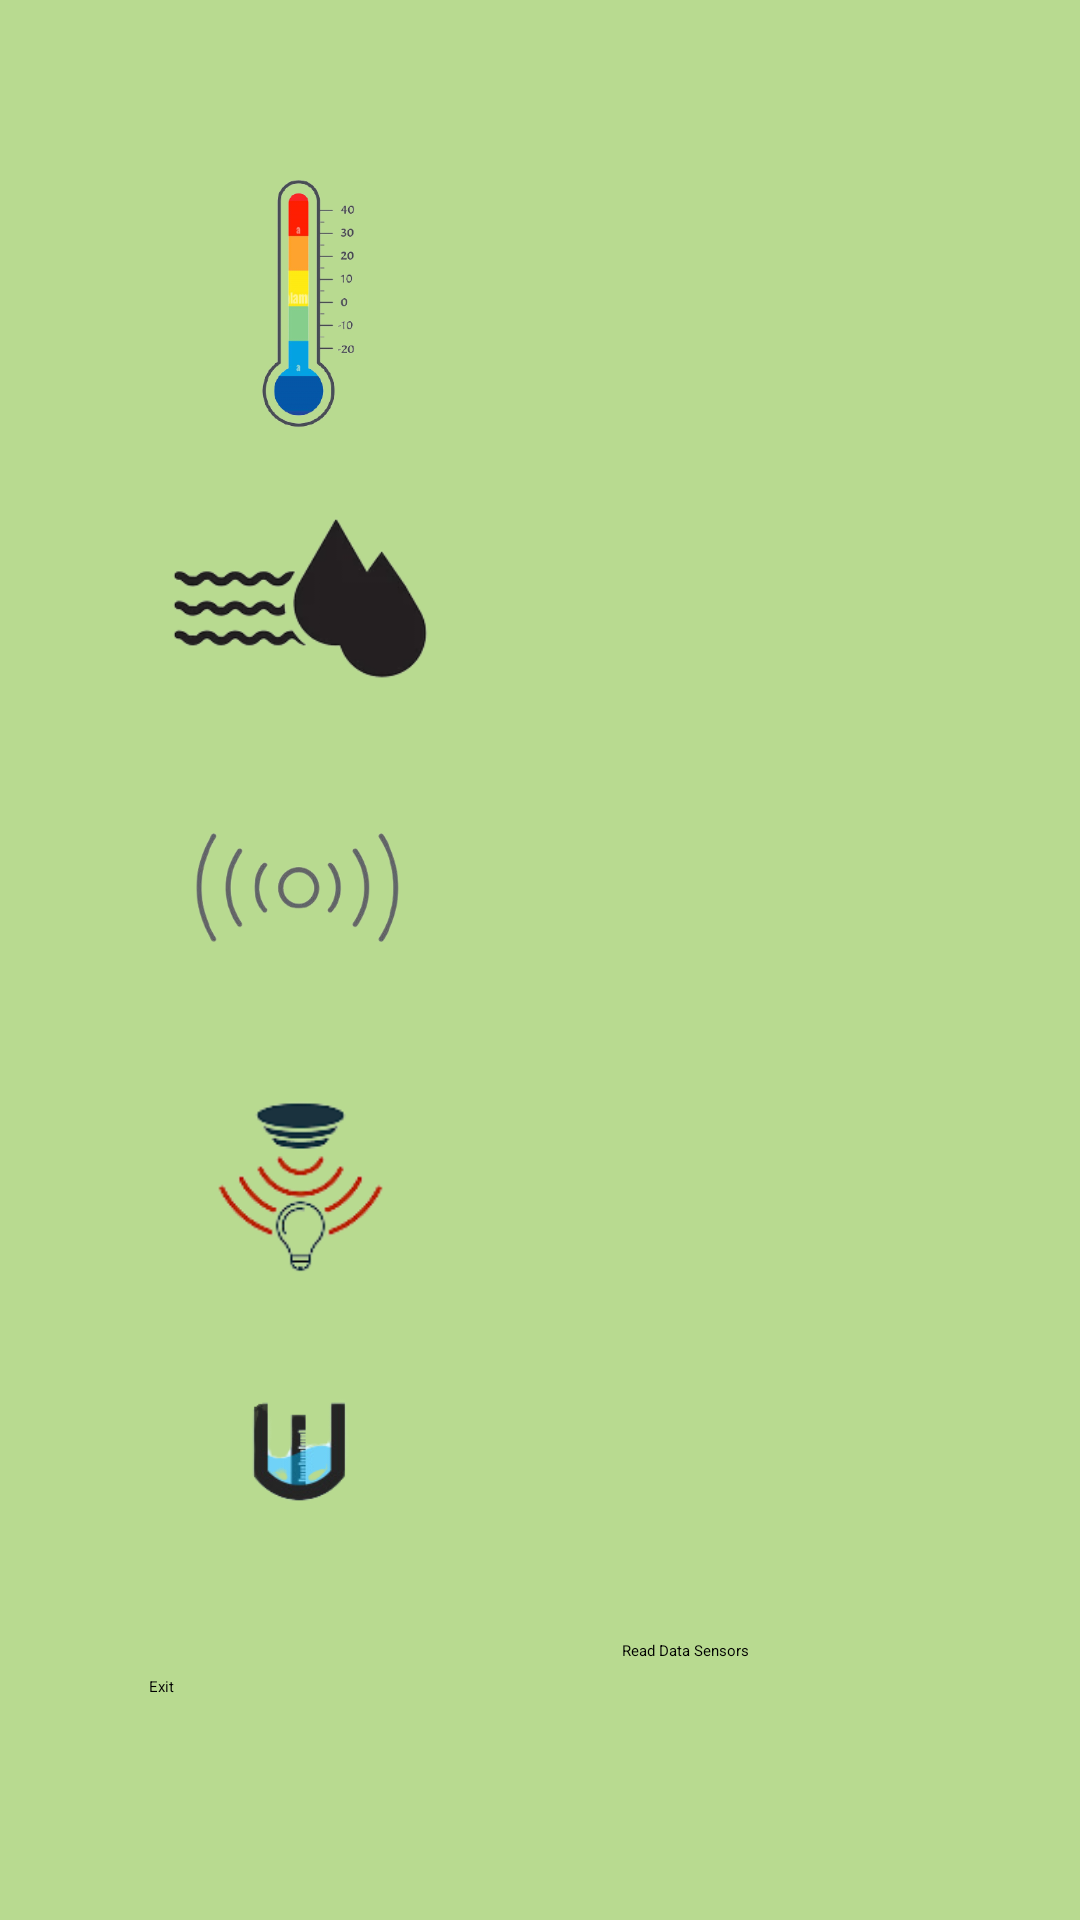

Where icons sit on this 1080×1920 app screen, as (x1, y1, x2, y2):
humid: (174, 519, 427, 678)
motion value: (196, 833, 399, 942)
water: (253, 1403, 345, 1501)
